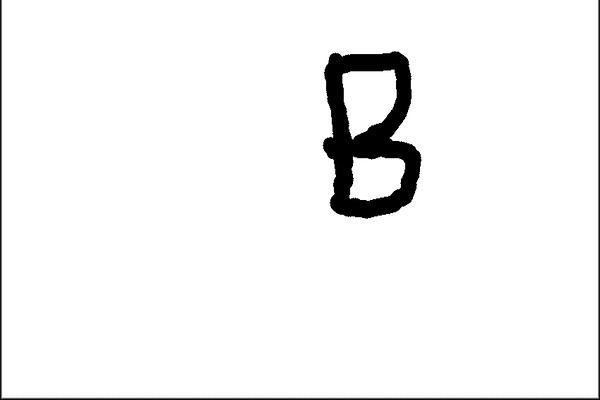B: (312, 38, 430, 224)
